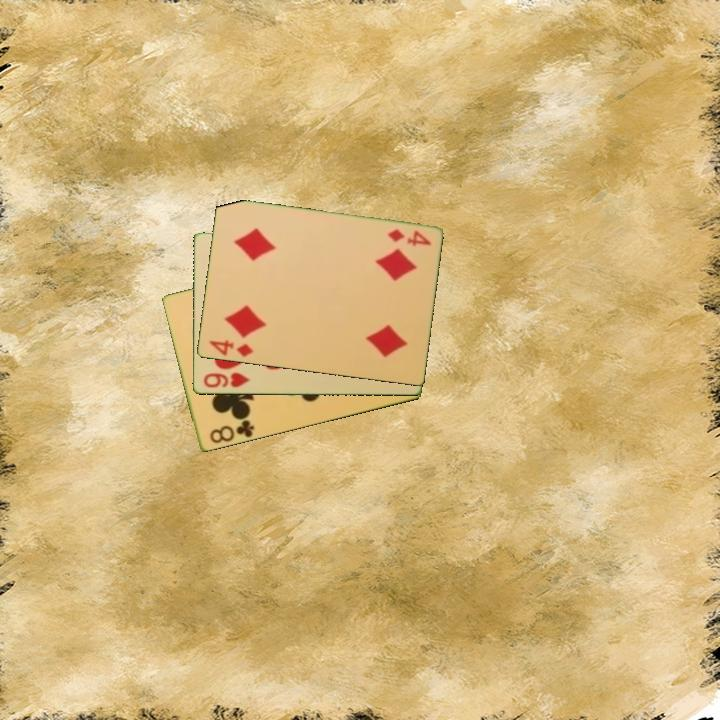4d: (205, 336, 256, 360), (384, 226, 434, 249)
8c: (206, 414, 257, 447)
9h: (200, 369, 252, 391)
